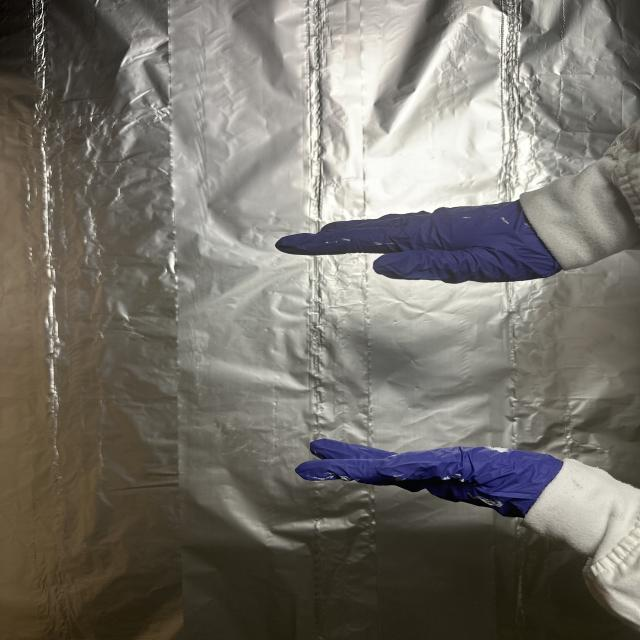gloves_contaminated: (276, 202, 560, 284), (296, 439, 562, 517)
